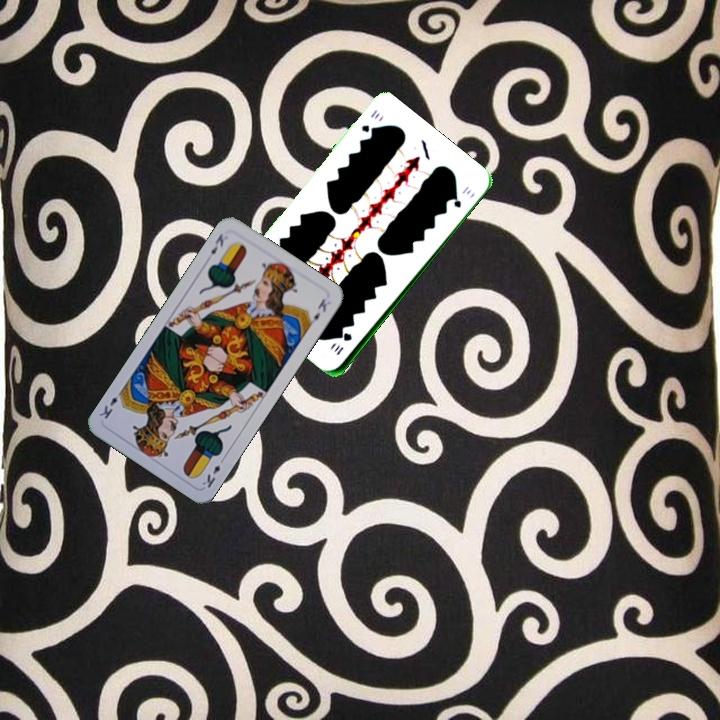EK: (198, 453, 228, 490), (206, 229, 226, 257)
G10: (330, 329, 355, 358), (357, 106, 382, 135)
